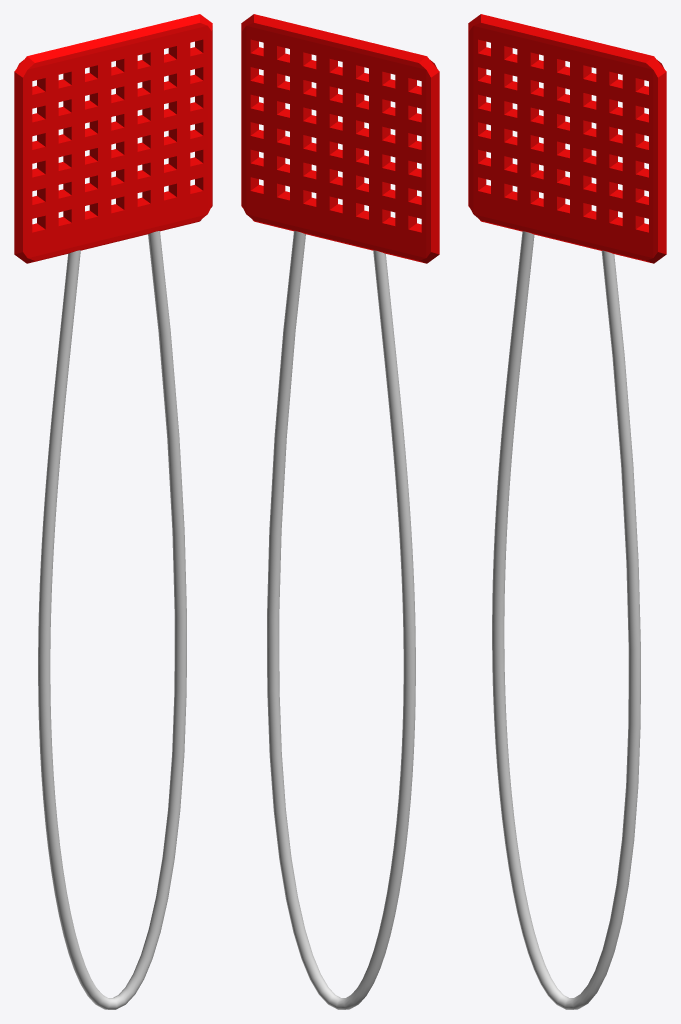
Rendered from Kärpäslätkä.fbx.
3 renders of one model, left to right at view 1: azimuth 30°, elevation 25°; view 2: azimuth 150°, elevation 25°; view 3: azimuth 330°, elevation 25°, orthographic.
Visible parts, largest first — view 1: Cube.001, NurbsPath; view 2: Cube.001, NurbsPath; view 3: Cube.001, NurbsPath.
Boxes of the visible parts, left/top/right/bottom form: Cube.001: left=14, top=14, right=212, bottom=263; NurbsPath: left=38, top=231, right=186, bottom=1009; Cube.001: left=241, top=14, right=439, bottom=263; NurbsPath: left=267, top=231, right=415, bottom=1009; Cube.001: left=468, top=14, right=666, bottom=263; NurbsPath: left=492, top=231, right=640, bottom=1009.
Size of the model in its own units: 1250 by 5867 by 91.65.
